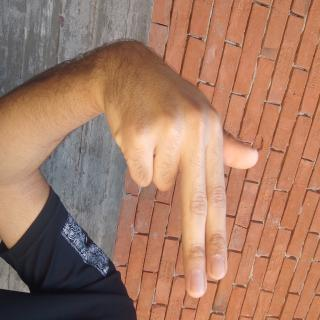GHAYN: (22, 72, 228, 307)
